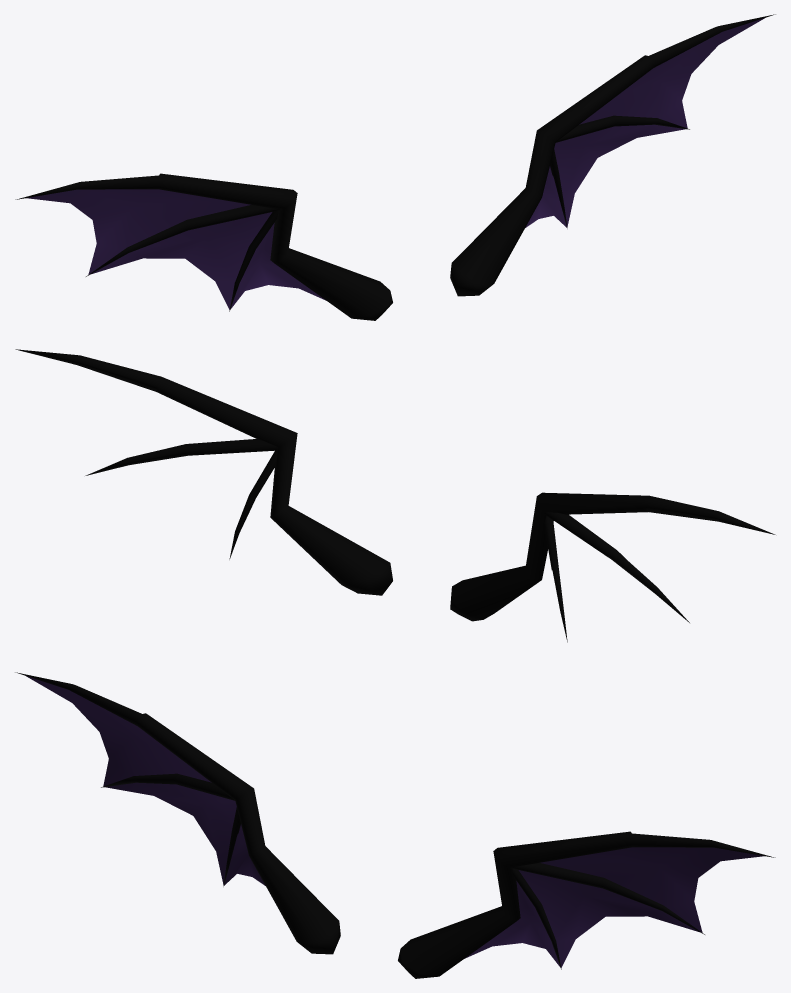
File: LittleGhost_DevilWing.fbx
3 views of the same model, one above another, from view 1: azimuth 30°, elevation 25°; view 2: azimuth 150°, elevation 25°; view 3: azimuth 330°, elevation 25° (orthographic).
Parts seen in each view (by area): view 1: Kid_ghost_v1:Devil_Wing2, Kid_ghost_v1:Devil_Wing1; view 2: Kid_ghost_v1:Devil_Wing1, Kid_ghost_v1:Devil_Wing2; view 3: Kid_ghost_v1:Devil_Wing1, Kid_ghost_v1:Devil_Wing2.
Boxes of the visible parts, x1,y1,x2,y2 form: Kid_ghost_v1:Devil_Wing2: [15, 173, 392, 320]; Kid_ghost_v1:Devil_Wing1: [450, 14, 775, 296]; Kid_ghost_v1:Devil_Wing1: [15, 349, 392, 595]; Kid_ghost_v1:Devil_Wing2: [450, 492, 775, 642]; Kid_ghost_v1:Devil_Wing1: [398, 831, 775, 978]; Kid_ghost_v1:Devil_Wing2: [15, 672, 340, 954].
Size of the model in its own units: 3.75 by 0.8772 by 0.3798.
